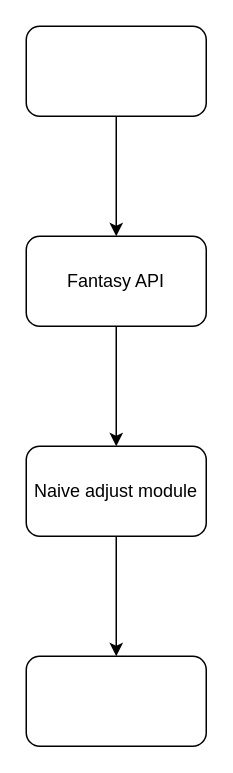
The diagram is 233 pixels wide and 773 high, and some of its shapes have lost their labels. The shapes that lost their labels are listed below. From the top down, each one's centre as x and y in pixels, then its label:
the point at 115,70: FE
the point at 115,700: Validate rules?
